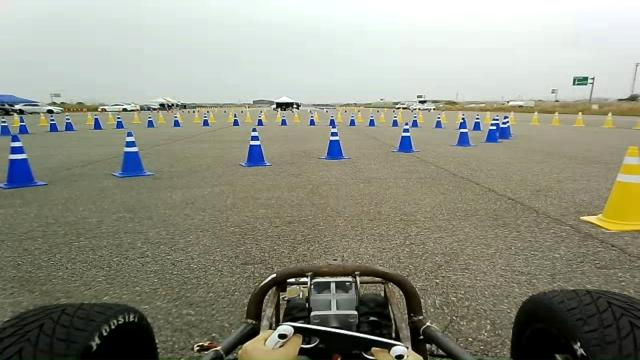blue cone: (0, 134, 48, 189), (111, 130, 154, 178), (317, 121, 351, 160), (239, 127, 272, 167), (391, 122, 420, 153), (451, 117, 476, 147), (485, 115, 503, 143), (498, 114, 514, 139), (471, 113, 482, 131), (433, 113, 445, 129)
yellow cone: (579, 145, 639, 231), (603, 103, 624, 135), (573, 111, 585, 126), (530, 111, 540, 125), (551, 111, 560, 125), (508, 111, 516, 124), (484, 111, 491, 123), (378, 112, 386, 122), (416, 112, 424, 122), (454, 113, 462, 123), (632, 120, 640, 129), (397, 111, 403, 122)
